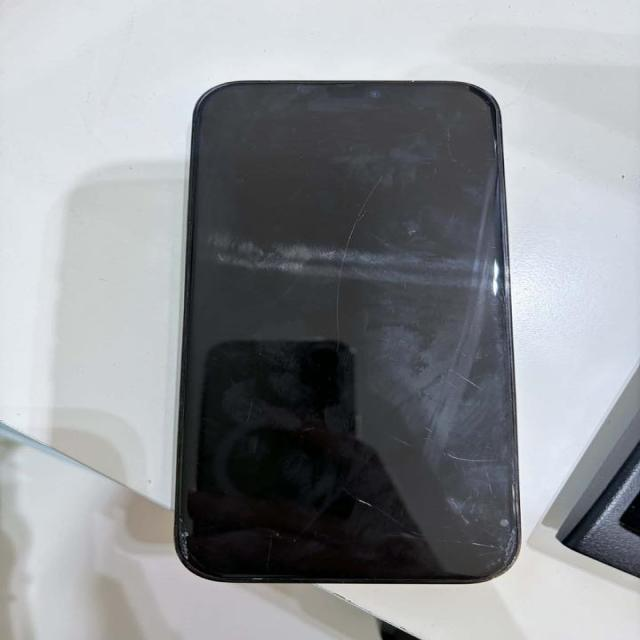gen_12_13: (164, 68, 526, 590)
